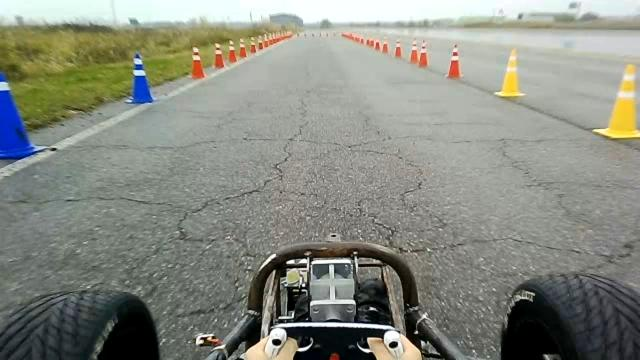blue cone: (0, 70, 46, 160), (124, 52, 157, 104)
red cone: (446, 43, 464, 79), (189, 44, 207, 79), (212, 42, 225, 68), (418, 39, 428, 67), (408, 38, 419, 63), (228, 39, 238, 63), (238, 37, 248, 58), (394, 36, 402, 58)
yellow cone: (592, 63, 639, 139), (494, 48, 526, 98)
